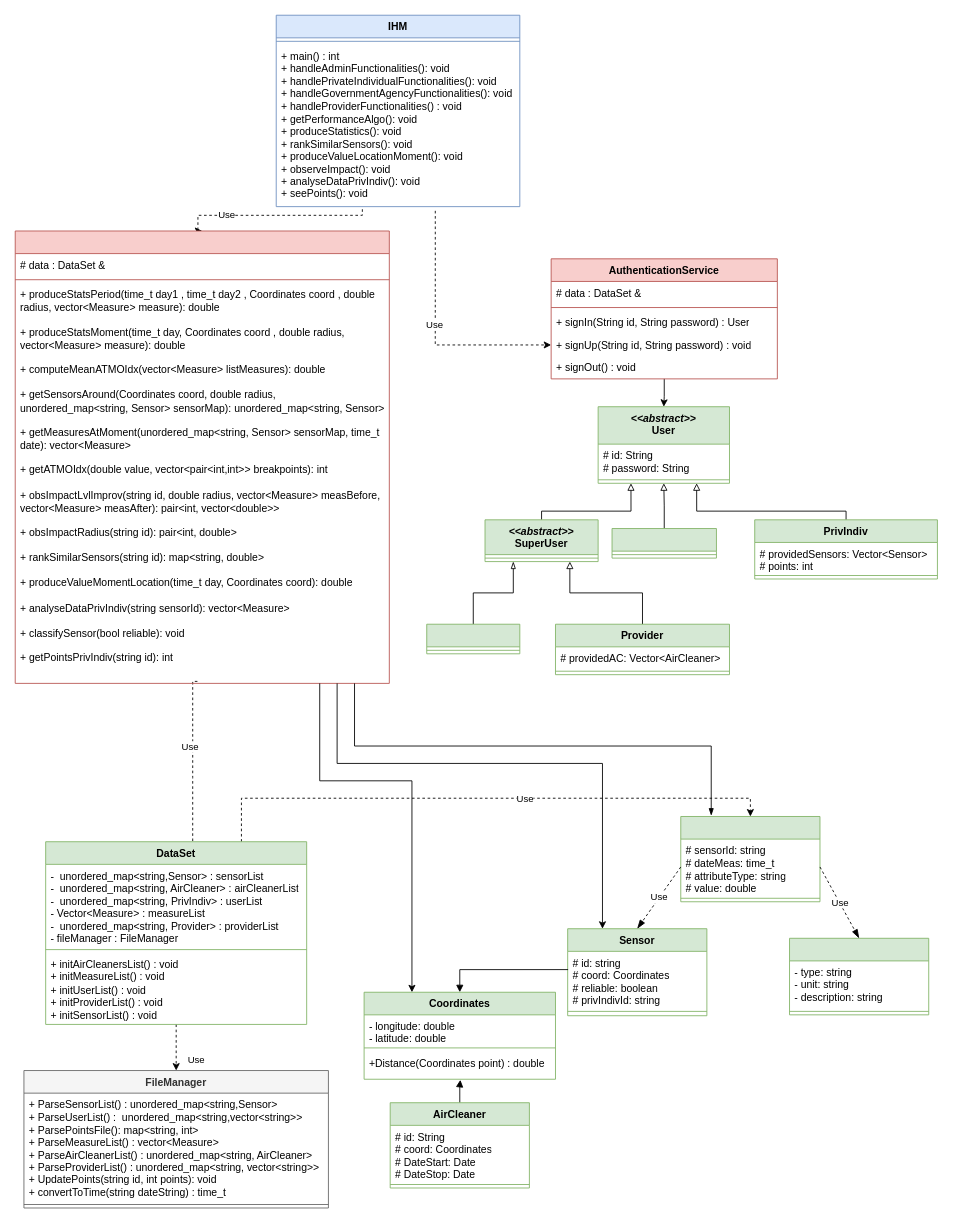
The diagram is 953 pixels wide and 1223 high, and some of its shapes have lost their labels. Each missing label, with the box of its shape:
Admin: (611, 528, 716, 558)
AppService: (14, 230, 389, 683)
Attribute: (789, 937, 929, 1015)
Measure: (680, 816, 820, 902)
MemberGov: (426, 623, 520, 654)
